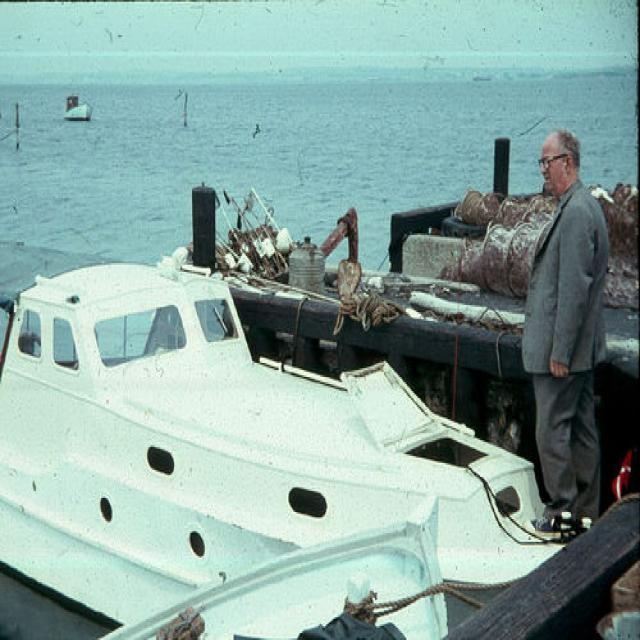boat: (1, 263, 594, 640), (98, 494, 449, 639), (64, 92, 94, 124)
person: (522, 133, 608, 517)
